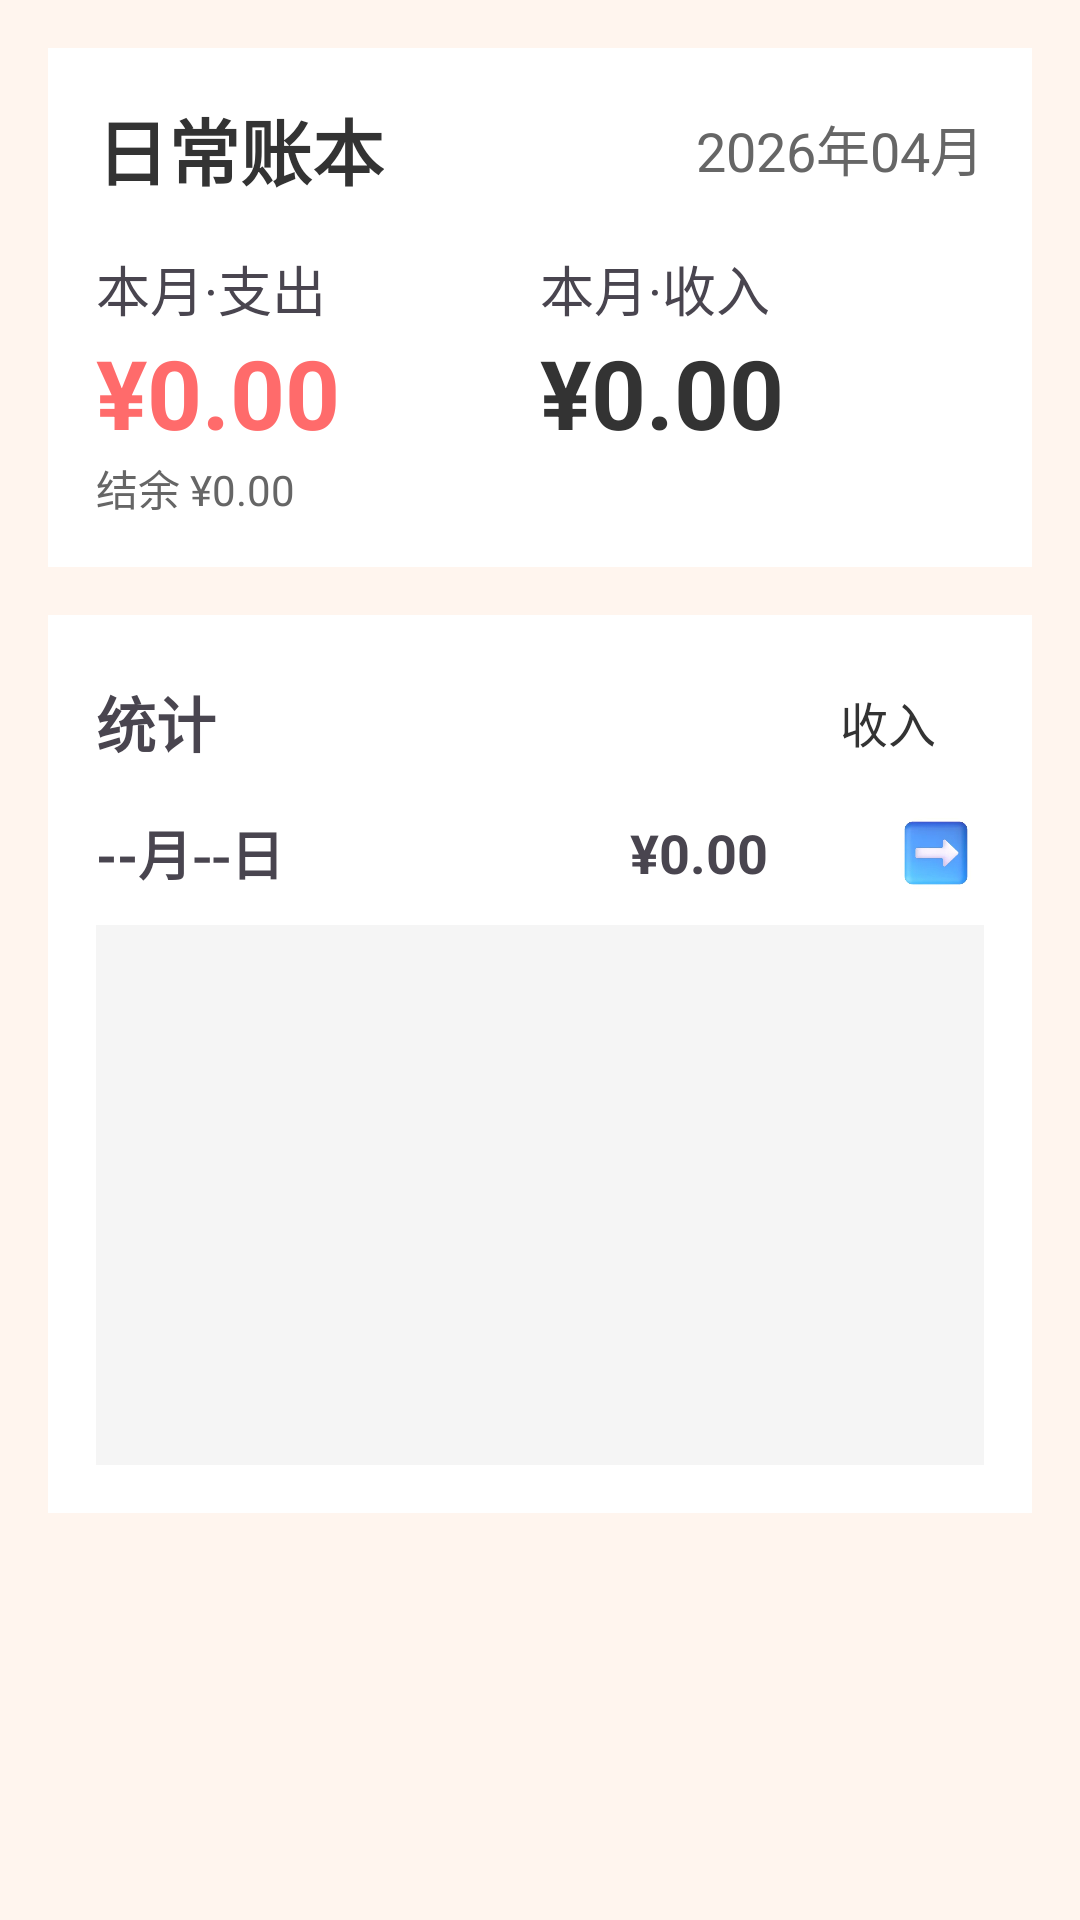

Icon click points for this 1080px x 1920px phone screenshot, format (x,y):
right: (936,853)
